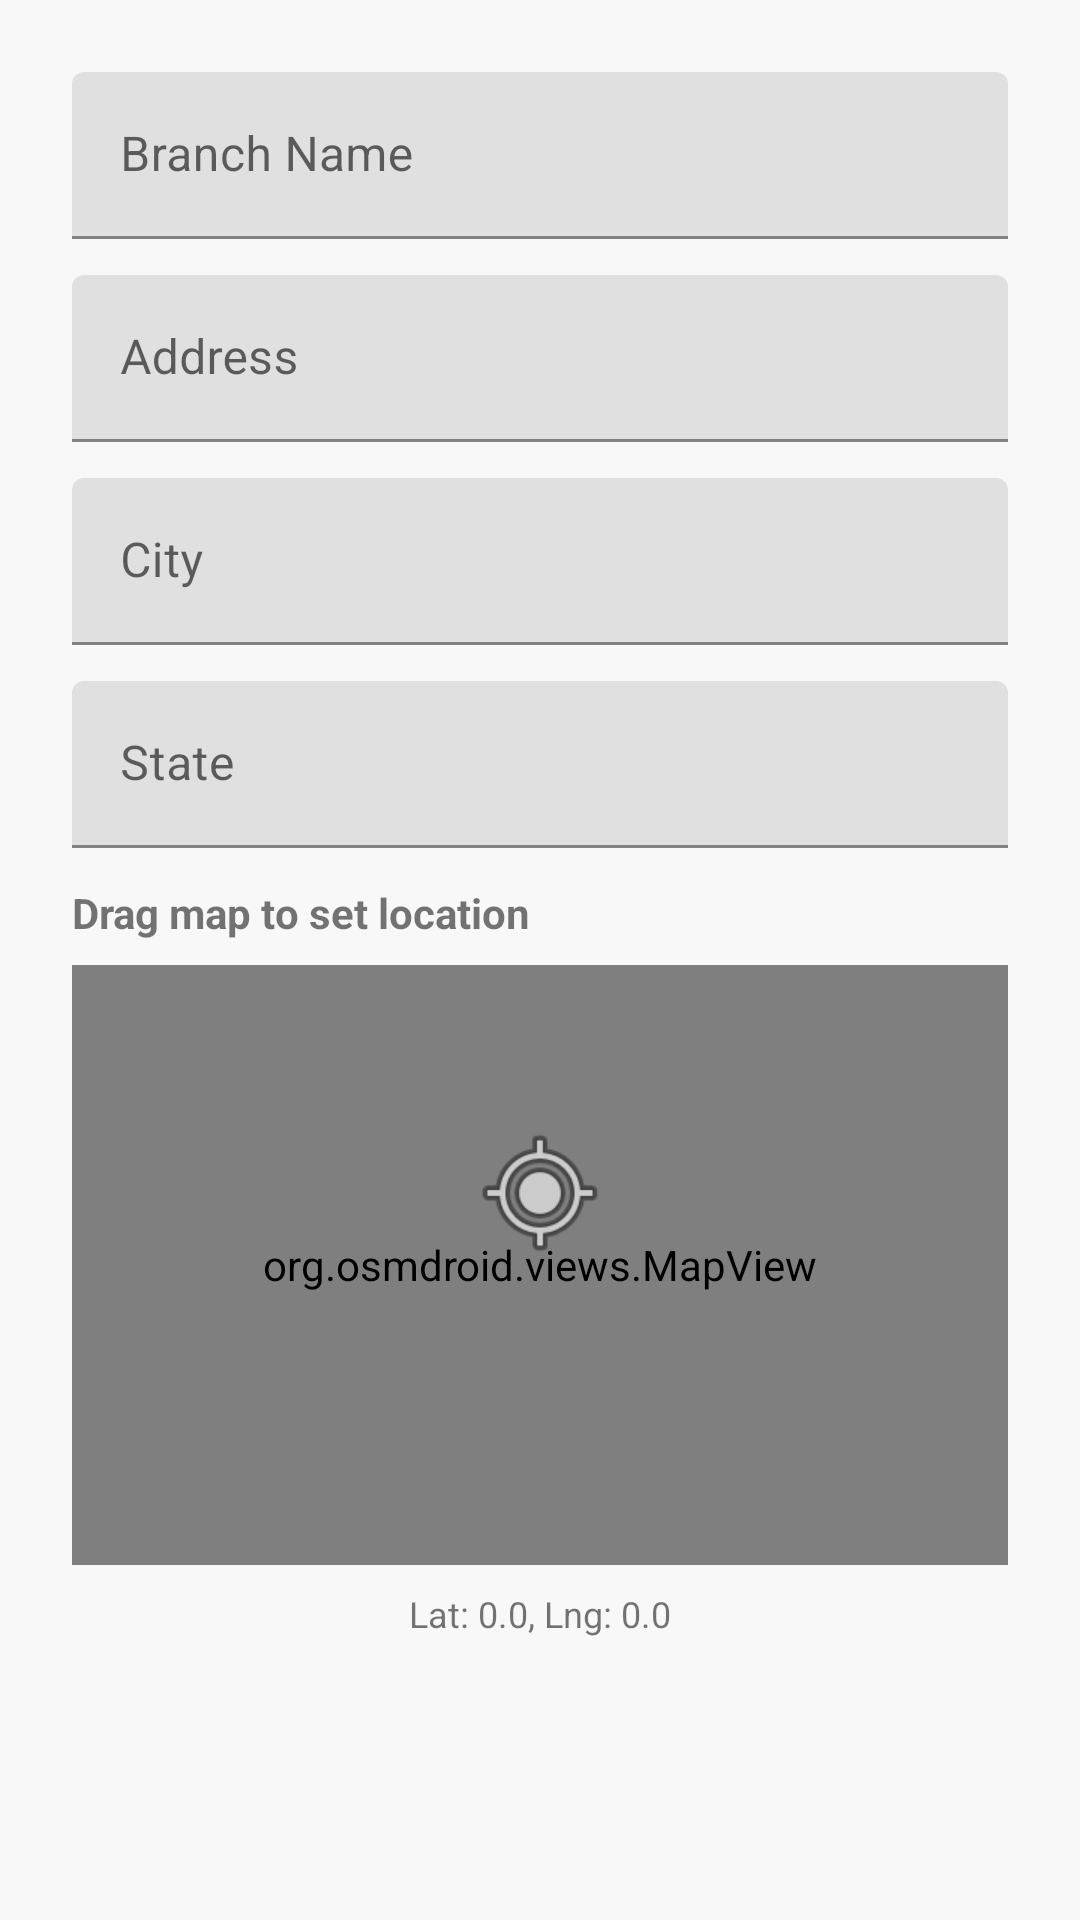

Where to tap for icons on this 1080*1920 app screen, as (x,y):
mylocation: (540,1195)
